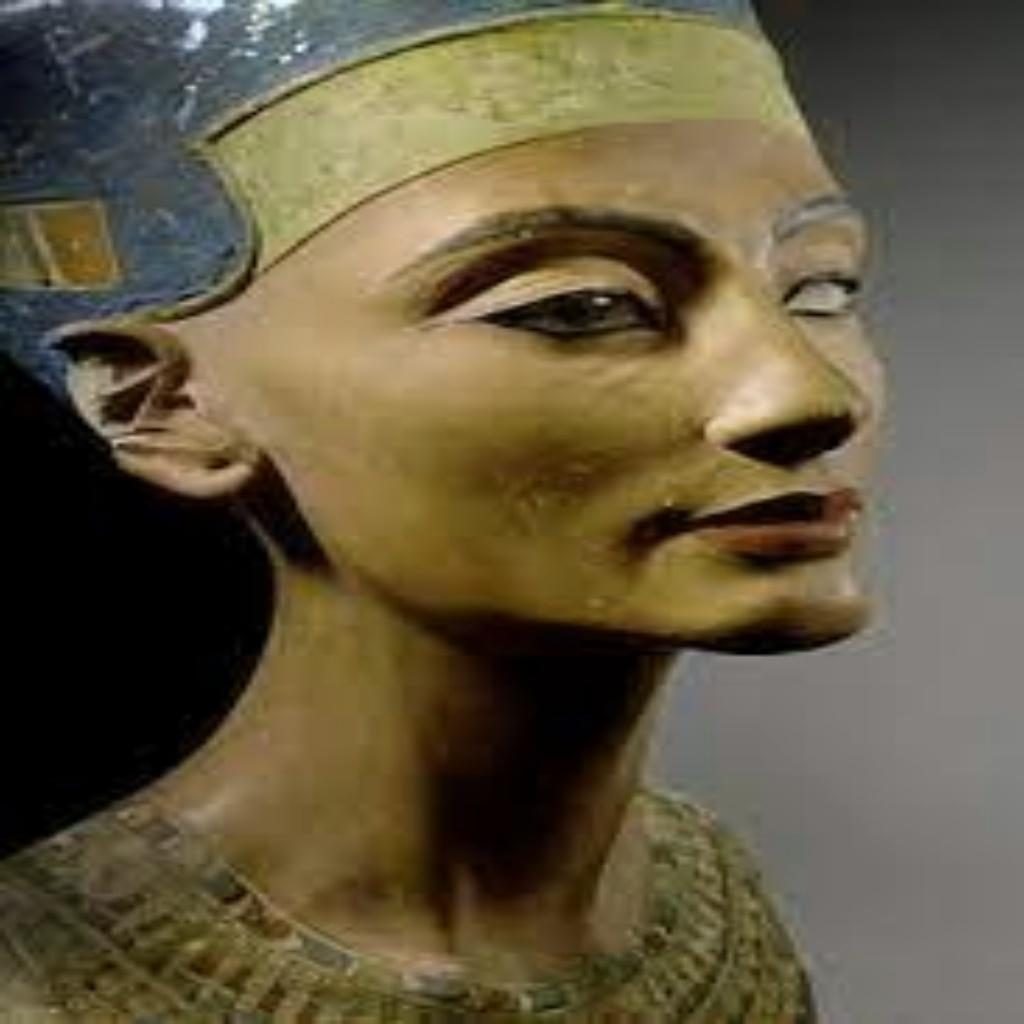Nefertiti: (0, 0, 895, 1020)
